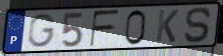0: (124, 9, 148, 46)
5: (59, 11, 87, 49)
F: (89, 8, 122, 48)
G: (27, 12, 58, 49)
K: (154, 8, 181, 43)
S: (182, 6, 213, 45)
